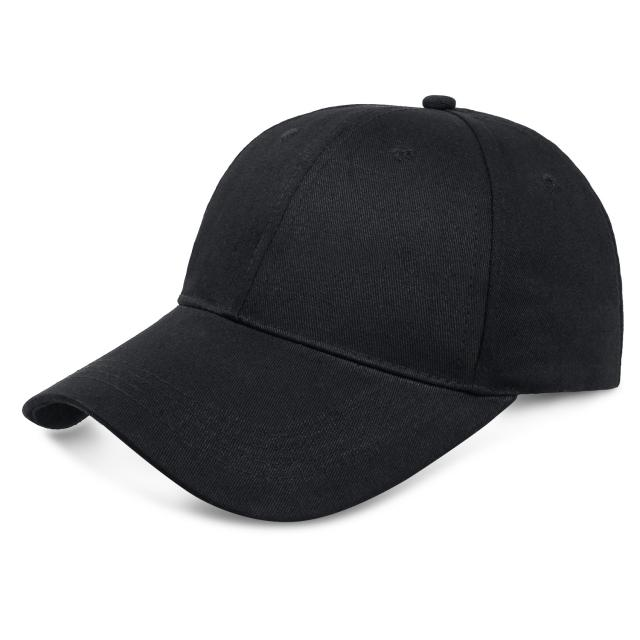suspicious-objects: (23, 96, 624, 521)
